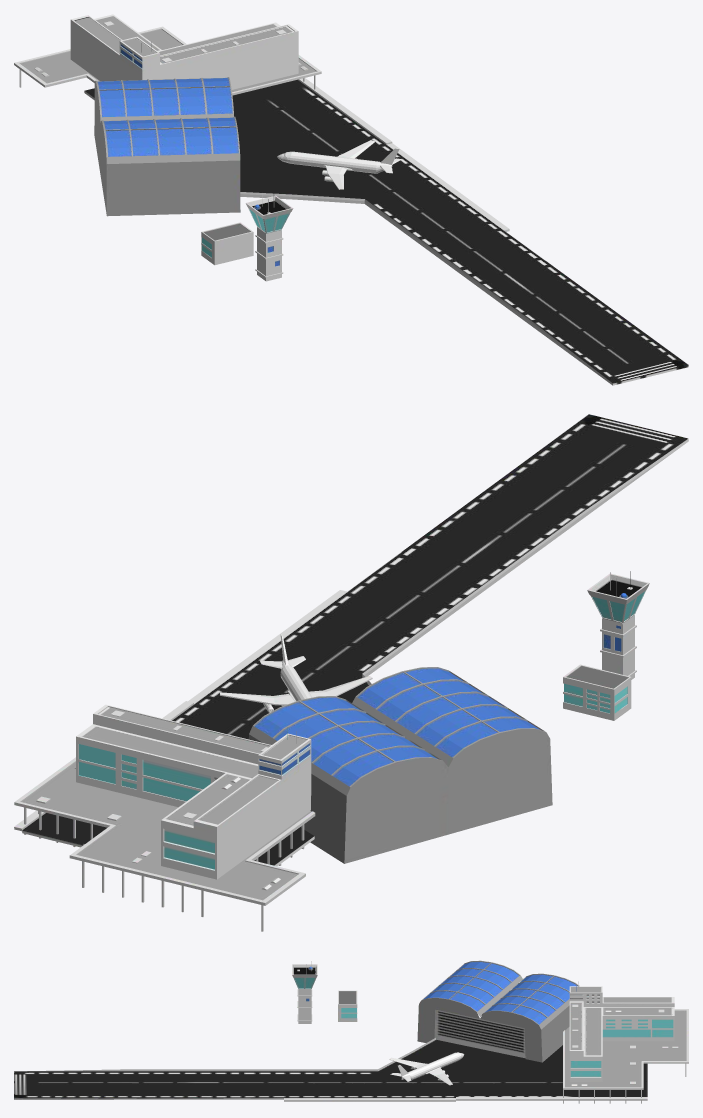
File: AirPort.fbx
The picture shows the model from 3 angles, top to bottom: view 1: azimuth 30°, elevation 25°; view 2: azimuth 150°, elevation 25°; view 3: azimuth 270°, elevation 25°; orthographic projection. The views are drawn at different scales.
Parts seen in each view (by area): view 1: Plane, Cylinder.001, Cube.008, Cube.004, Cube, Cylinder.003, Cube.002; view 2: Plane, Cylinder.001, Cube.008, Cube.004, Cube, Cube.002, Cylinder.003; view 3: Plane, Cylinder.001, Cube.008, Cube.004, Cube, Cylinder.003, Cube.002, Cube.011.
Part boxes in pixels (left/top/right/bottom): Plane: left=84, top=78, right=688, bottom=385; Cylinder.001: left=94, top=77, right=240, bottom=216; Cube.008: left=70, top=14, right=298, bottom=89; Cube.004: left=14, top=26, right=321, bottom=95; Cube: left=245, top=195, right=293, bottom=281; Cylinder.003: left=277, top=140, right=401, bottom=189; Cube.002: left=201, top=222, right=253, bottom=265; Plane: left=14, top=414, right=688, bottom=866; Cylinder.001: left=248, top=667, right=552, bottom=863; Cube.008: left=76, top=704, right=311, bottom=879; Cube.004: left=14, top=757, right=315, bottom=931; Cube: left=587, top=573, right=649, bottom=679; Cube.002: left=563, top=664, right=631, bottom=720; Cylinder.003: left=220, top=634, right=372, bottom=712; Plane: left=14, top=1038, right=647, bottom=1101; Cylinder.001: left=417, top=960, right=579, bottom=1062; Cube.008: left=569, top=986, right=674, bottom=1081; Cube.004: left=563, top=1009, right=688, bottom=1103; Cube: left=292, top=964, right=317, bottom=1023; Cylinder.003: left=389, top=1052, right=464, bottom=1085; Cube.002: left=338, top=990, right=357, bottom=1021; Cube.011: left=571, top=981, right=678, bottom=1086.
Bounding box in the file's own units: 8177 × 2389 × 22911.
